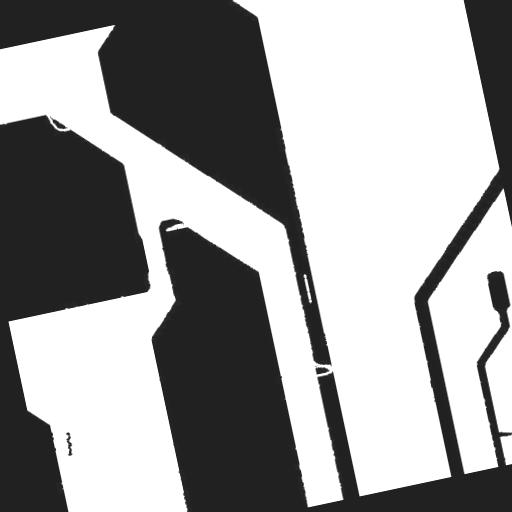copper: (54, 422, 82, 464)
mousebite: (36, 100, 79, 143), (155, 212, 201, 240)
open: (301, 348, 342, 387)
pin-hole: (294, 264, 320, 312)
short: (485, 418, 512, 447)
